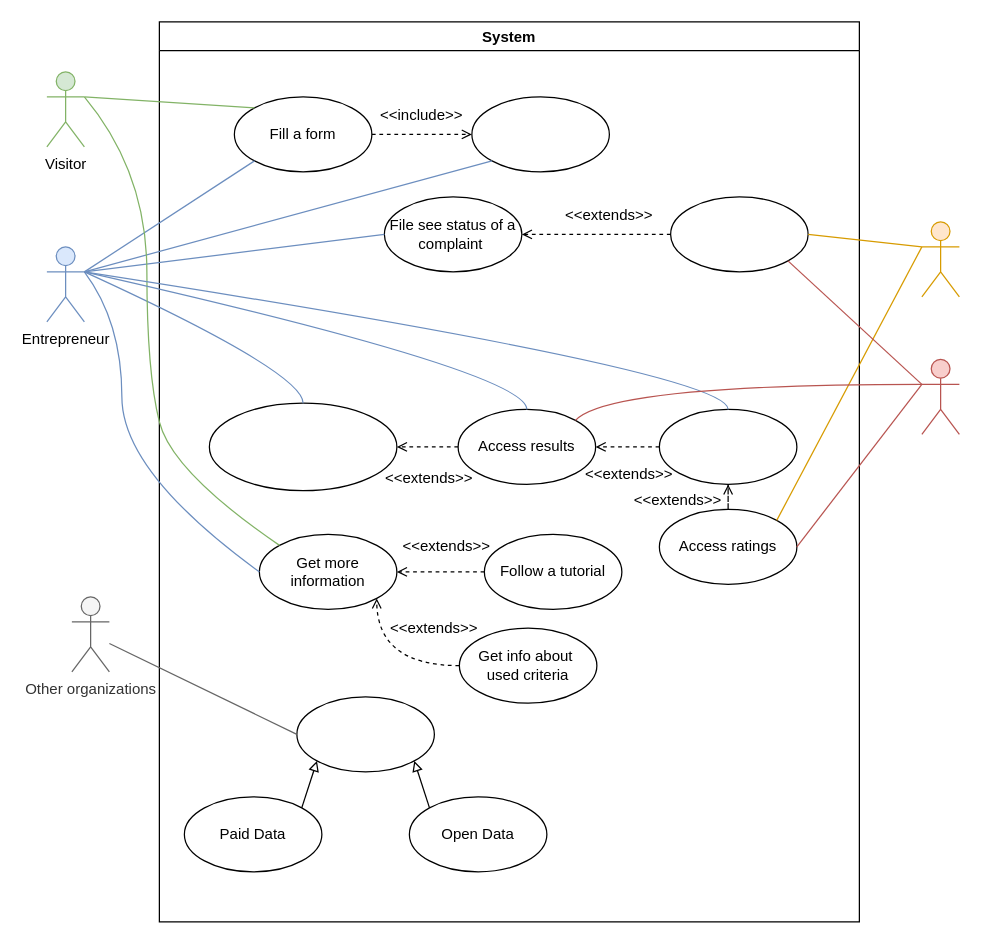
This 988x944 diagram has some shape labels left out. The shapes that lost their labels are listed below. From the top down, each one's box as (x1, y1, x2, y2) in pixels, then its label:
(471, 96, 609, 172): Accept or refuse to publish results
(669, 196, 808, 272): Access and answer complaints
(921, 221, 959, 297): Support
(921, 358, 959, 434): Admin
(208, 402, 397, 491): Login using their existing bolagsverket credentials
(658, 408, 797, 484): Rate the accuracy of the results
(296, 696, 434, 772): Access some data
